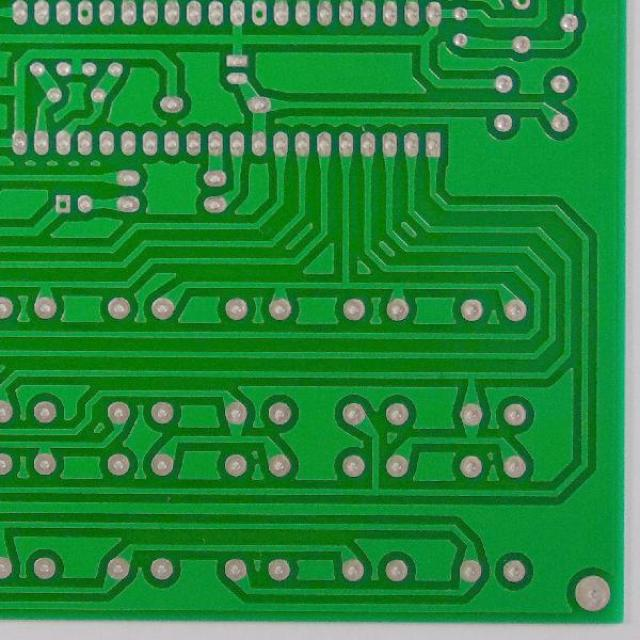Missing_Hole: (248, 0, 268, 28), (51, 192, 73, 217), (75, 1, 94, 27), (509, 0, 533, 10)
